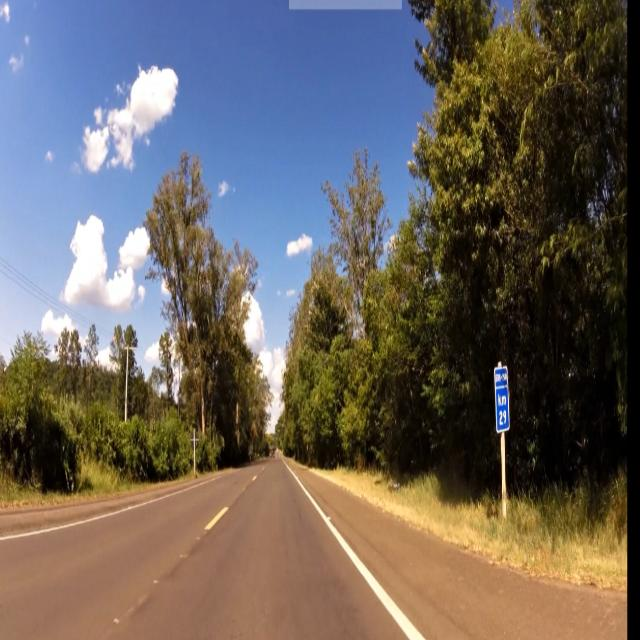RQ: (495, 369, 510, 431)
